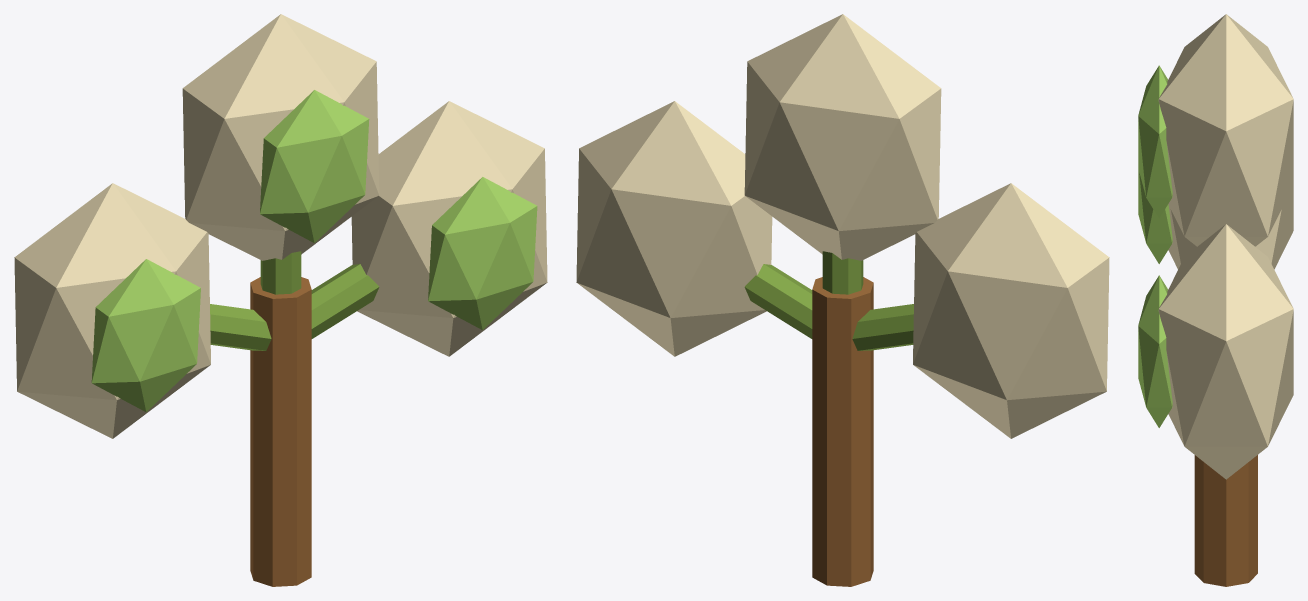
File: harvest_drop_pistachio.glb
3 views of the same model, side by side, from view 1: azimuth 30°, elevation 25°; view 2: azimuth 150°, elevation 25°; view 3: azimuth 270°, elevation 25° (orthographic).
Parts seen in each view (by area): view 1: FTF_Harvest_Drop_Pistachio_Cluster_Mesh; view 2: FTF_Harvest_Drop_Pistachio_Cluster_Mesh; view 3: FTF_Harvest_Drop_Pistachio_Cluster_Mesh.
Part boxes in pixels (left/top/right/bottom): FTF_Harvest_Drop_Pistachio_Cluster_Mesh: left=14, top=14, right=547, bottom=586; FTF_Harvest_Drop_Pistachio_Cluster_Mesh: left=576, top=14, right=1109, bottom=586; FTF_Harvest_Drop_Pistachio_Cluster_Mesh: left=1138, top=14, right=1293, bottom=586.
Bounding box in the file's own units: 0.3452 × 0.35 × 0.0882.
